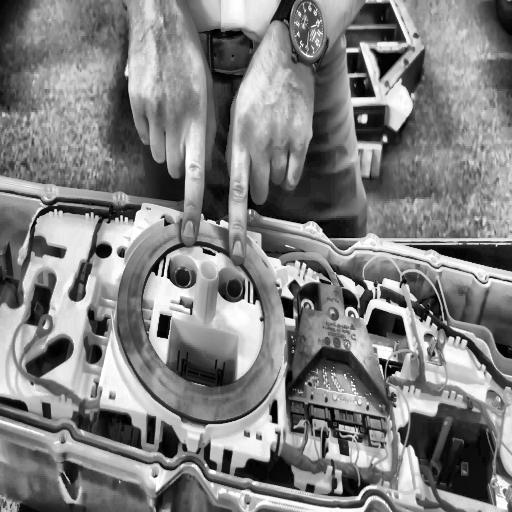connector: (117, 216, 286, 415)
